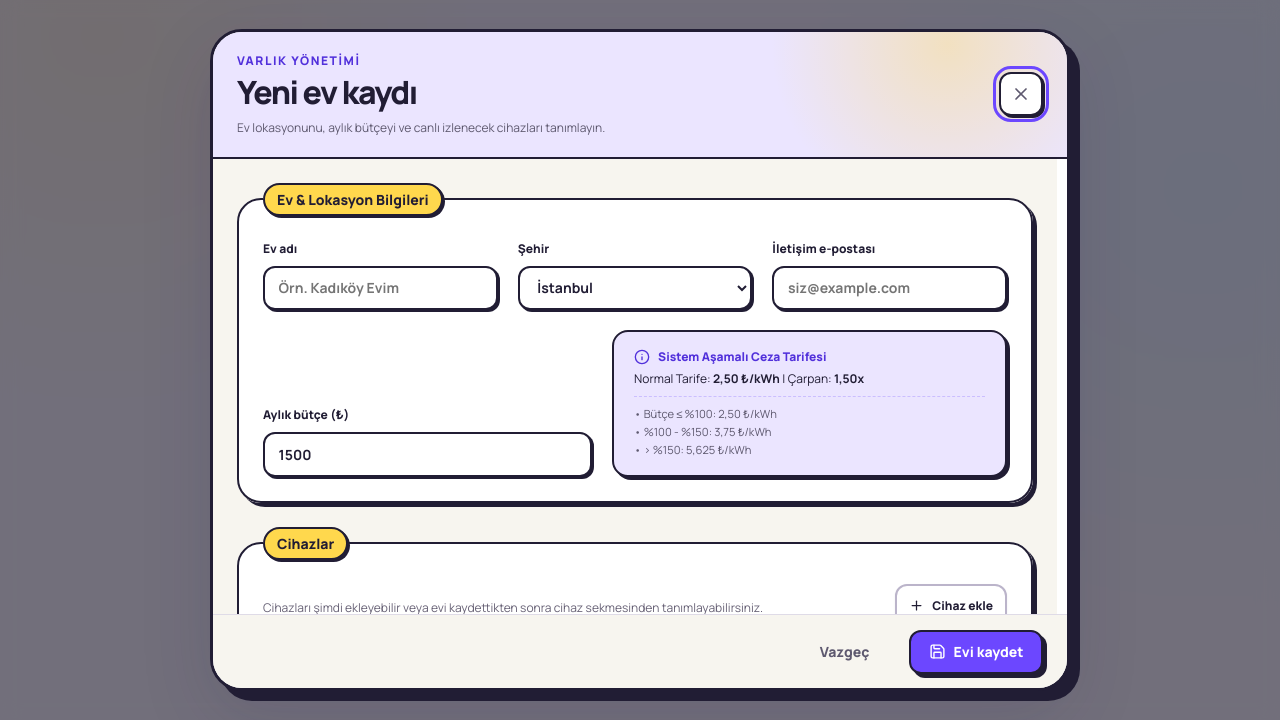
Test: home registration › validates required home fields before making a request
The width and height of the screenshot is (1280, 720).
Click the button "Evi kaydet" at (976, 652), box 909,630 -> 1043,674
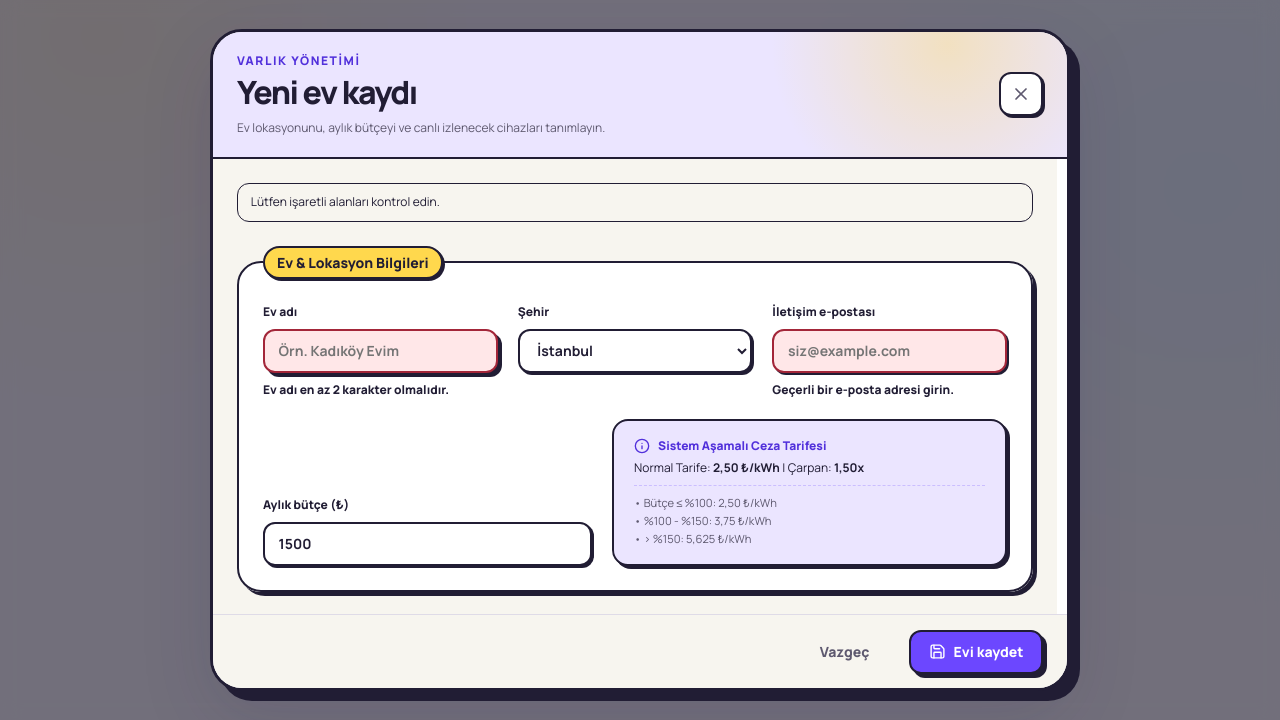
Expected: the text "Ev adı en az 2 karakter olmalıdır." is shown, 263,381 -> 449,398
Expected: the text "Geçerli bir e-posta adresi girin." is shown, 772,381 -> 954,398
Expected: the message reads "Lütfen işaretli alanları kontrol edin.", 251,193 -> 440,210
